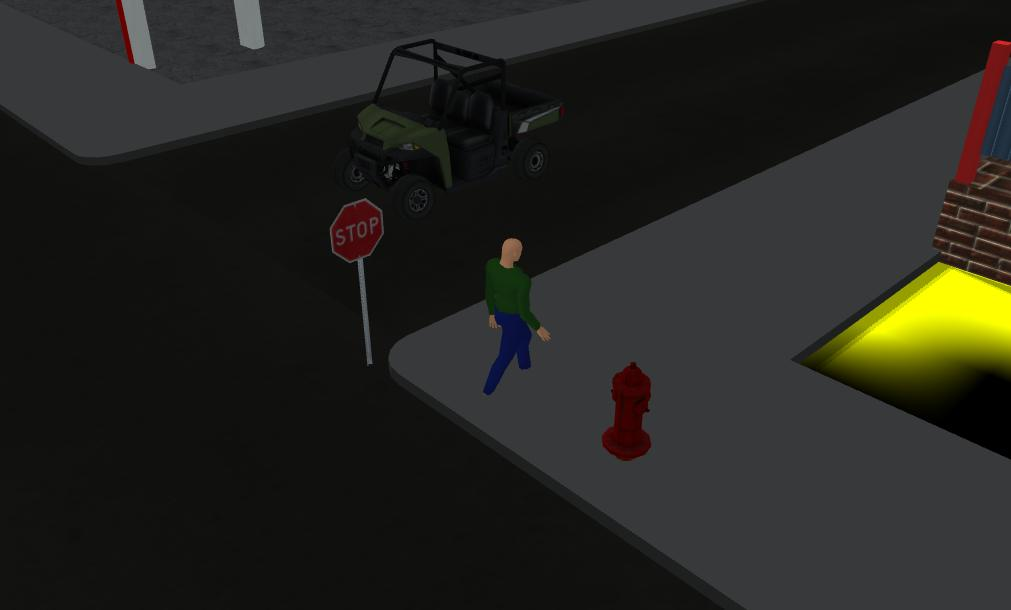car: (353, 33, 575, 214)
fire hydrant: (590, 349, 663, 483)
human: (472, 242, 546, 398)
street sign: (326, 199, 404, 376)
